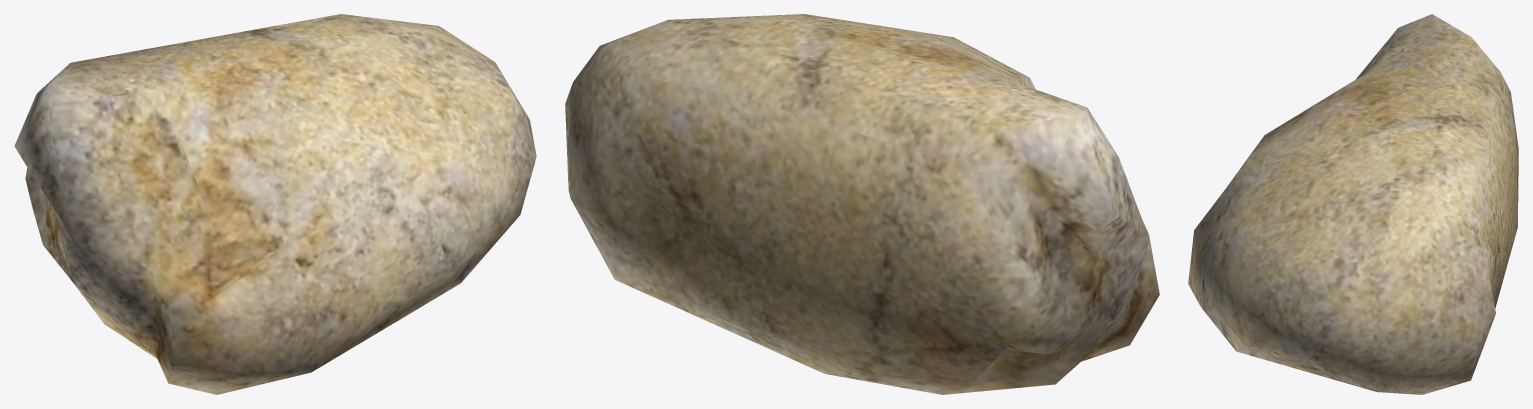
3 renders of one model, left to right at view 1: azimuth 30°, elevation 25°; view 2: azimuth 150°, elevation 25°; view 3: azimuth 270°, elevation 25°, orthographic. The views are drawn at different scales.
Parts seen in each view (by area): view 1: rock024_lod4; view 2: rock024_lod4; view 3: rock024_lod4.
Boxes of the visible parts, x1,y1,x2,y2 form: rock024_lod4: [14, 14, 536, 394]; rock024_lod4: [565, 14, 1159, 394]; rock024_lod4: [1188, 14, 1518, 394].
Size of the model in its own units: 1 by 0.5517 by 0.64.
1 material, 1 textured.
